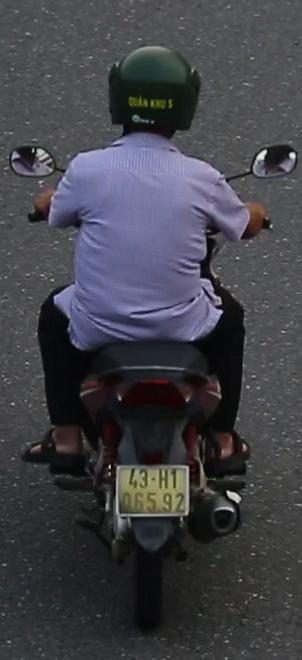LP: (112, 461, 193, 519)
helmet: (97, 36, 203, 168)
